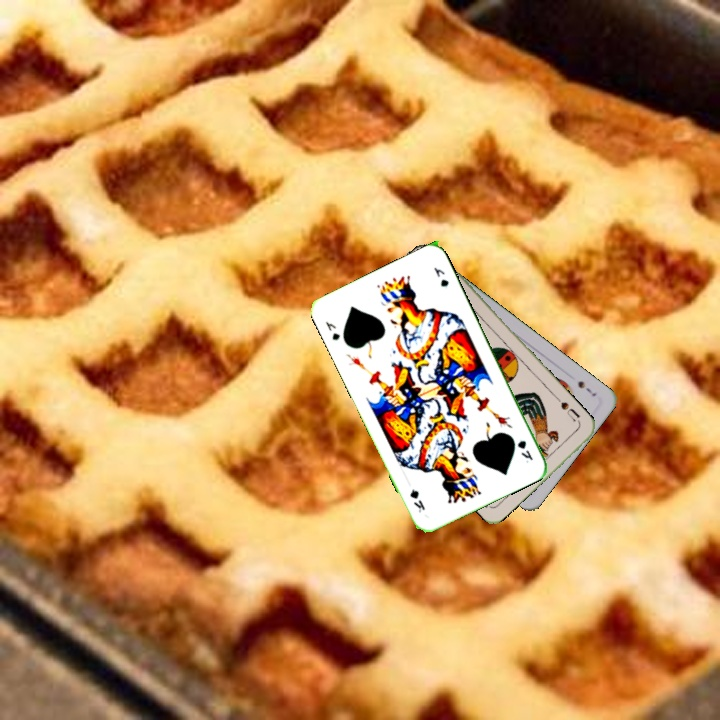GK: (513, 436, 535, 466), (321, 317, 343, 343)
S7: (574, 377, 599, 399)
SU: (553, 394, 583, 424)
